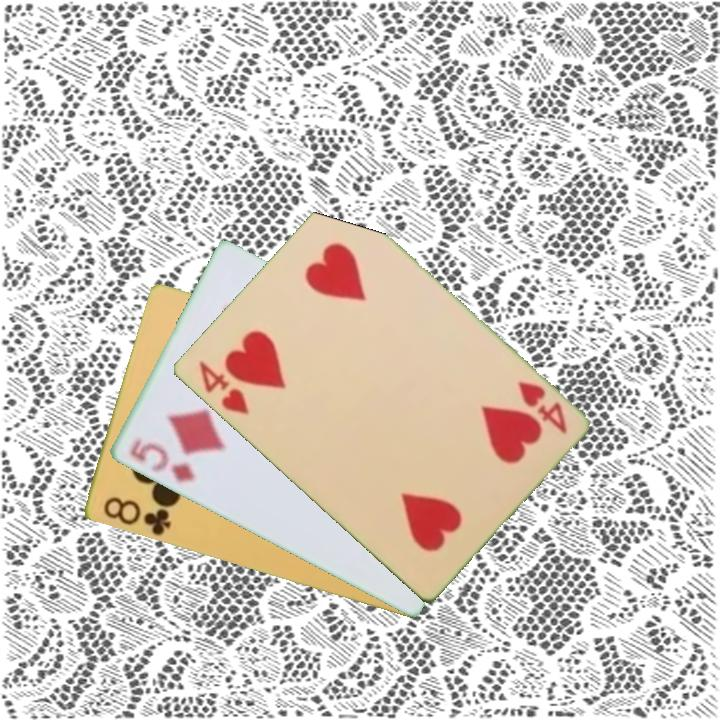4h: (194, 357, 252, 418), (513, 377, 570, 437)
5d: (125, 434, 198, 486)
8c: (99, 493, 173, 538)
